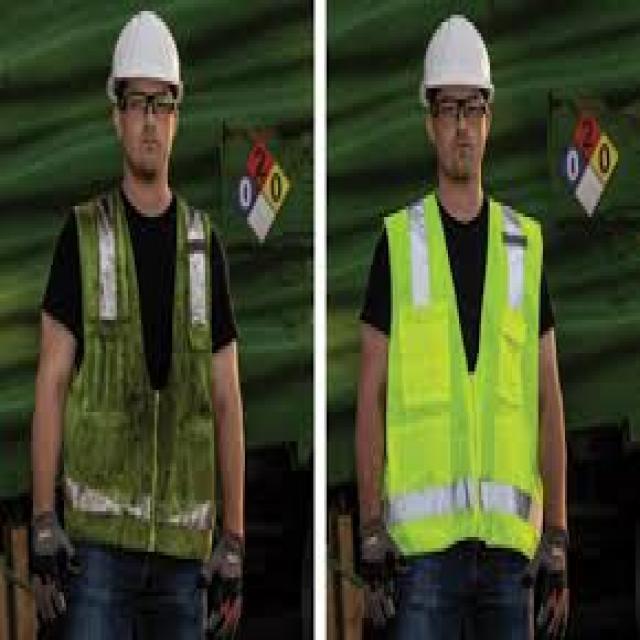reflective_jacket: (28, 180, 251, 584), (364, 187, 562, 581)
safety_helmet: (94, 3, 196, 117), (412, 7, 503, 113)
